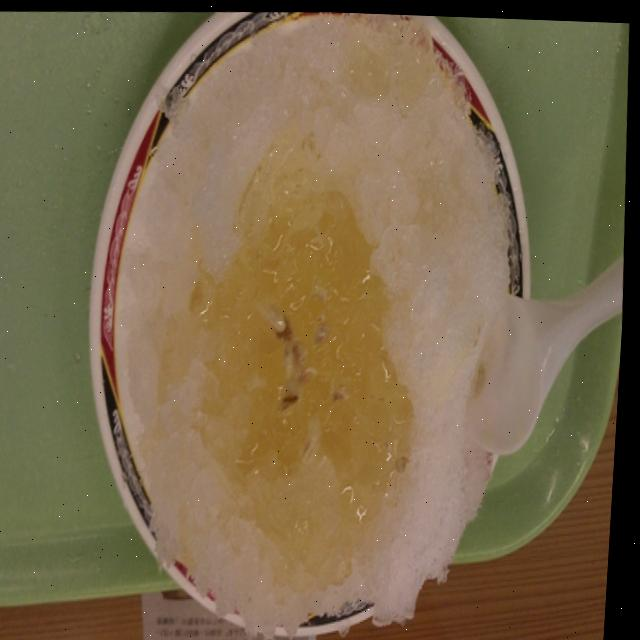蛋糕甜品: (28, 2, 612, 640)
